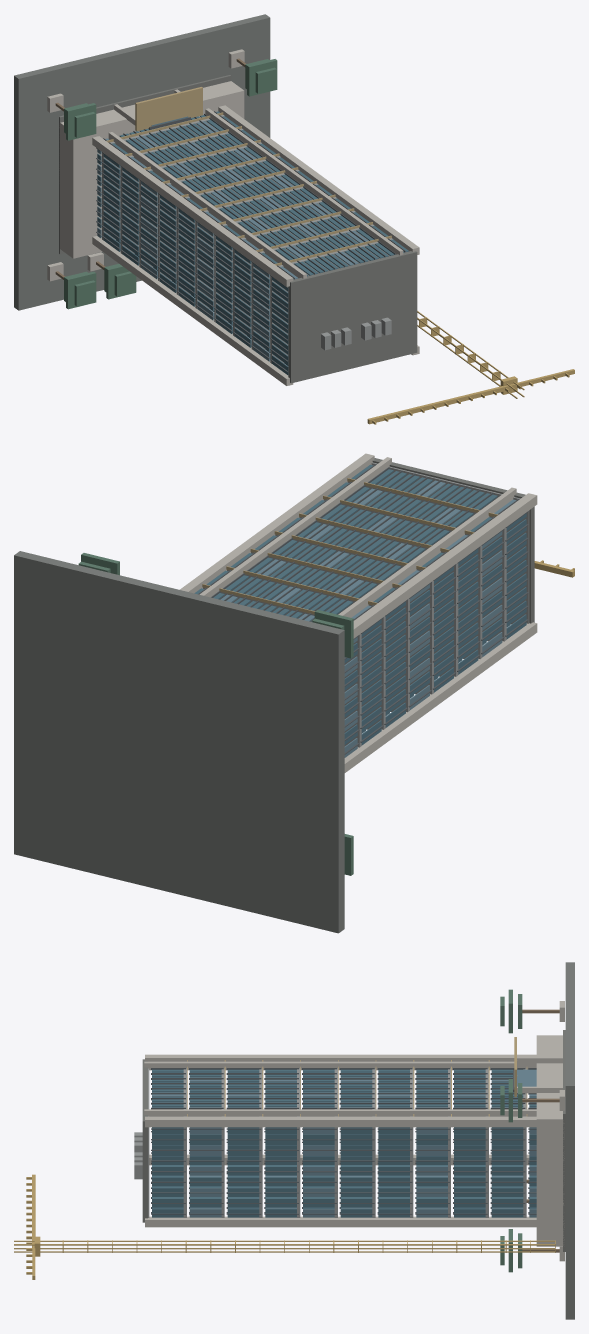
File: architectural-tower.glb
The picture shows the model from 3 angles, top to bottom: view 1: azimuth 30°, elevation 25°; view 2: azimuth 150°, elevation 25°; view 3: azimuth 270°, elevation 25°; orthographic projection. The views are drawn at different scales.
Parts seen in each view (by area): view 1: terrain, glass, stone, roof, concrete, frame, bronze, glass-light, greenery, crane; view 2: terrain, glass, stone, concrete, frame, glass-light, bronze, greenery, roof; view 3: glass, stone, frame, glass-light, concrete, crane, terrain, greenery, roof, bronze, tree-bark.
Boxes of the visible parts, x1,y1,x2,y2 form: terrain: (14,14,270,310); glass: (97,111,408,374); stone: (47,49,419,385); roof: (59,75,417,383); concrete: (102,115,392,363); frame: (96,111,405,372); bronze: (106,87,391,265); glass-light: (97,116,368,361); greenery: (64,59,277,309); crane: (367,311,574,424); terrain: (14,551,344,933); glass: (194,464,526,745); stone: (179,453,537,772); concrete: (203,462,529,747); frame: (198,464,528,754); glass-light: (220,480,515,757); bronze: (202,478,498,614); greenery: (78,553,353,875); roof: (372,458,534,624); glass: (152,1069,536,1217); stone: (144,1001,564,1261); frame: (151,1068,536,1214); glass-light: (152,1069,536,1217); concrete: (134,1068,526,1217); crane: (14,1174,555,1279); terrain: (565,962,574,1319); greenery: (500,989,522,1272); roof: (142,1030,565,1251); bronze: (187,1037,527,1116); tree-bark: (522,1009,559,1252).
Size of the model in its own units: 29 by 22 by 47.88.
